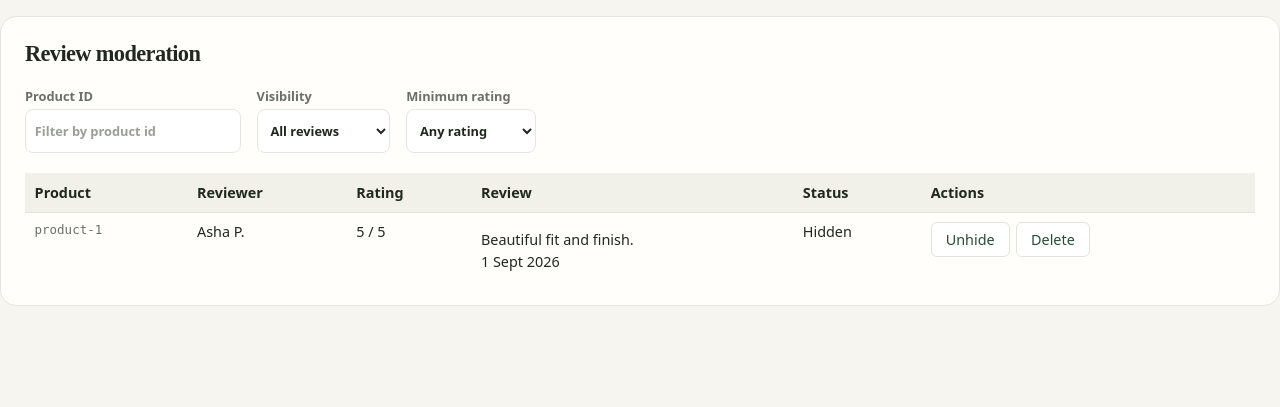
Test: ReviewsModerationSection › unhides a hidden review
Expected: the text "Asha P." is shown, [187,212,347,281]
Click the button "Unhide" at (970, 240), box [931,222,1010,257]
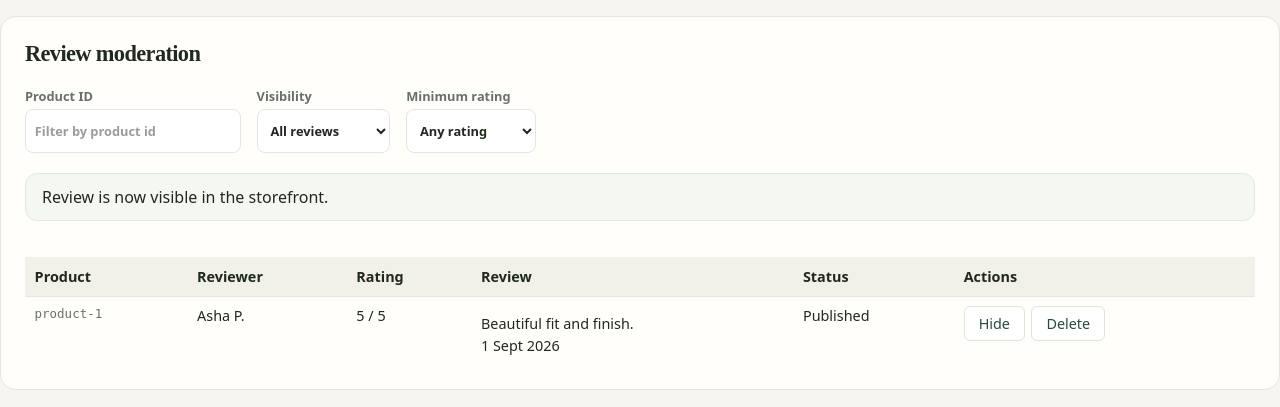
Expected: the text "Published" is shown, [793,296,954,365]
